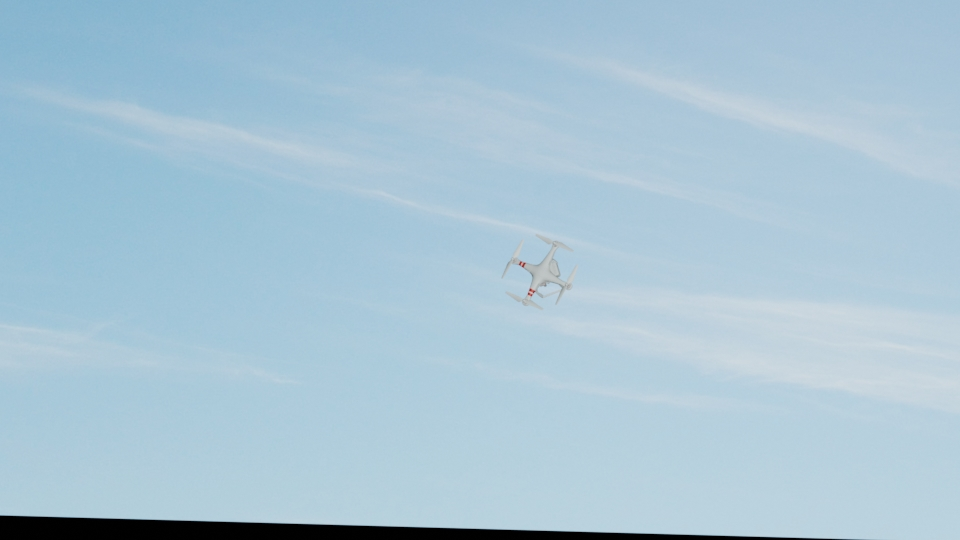drone: (502, 231, 580, 311)
